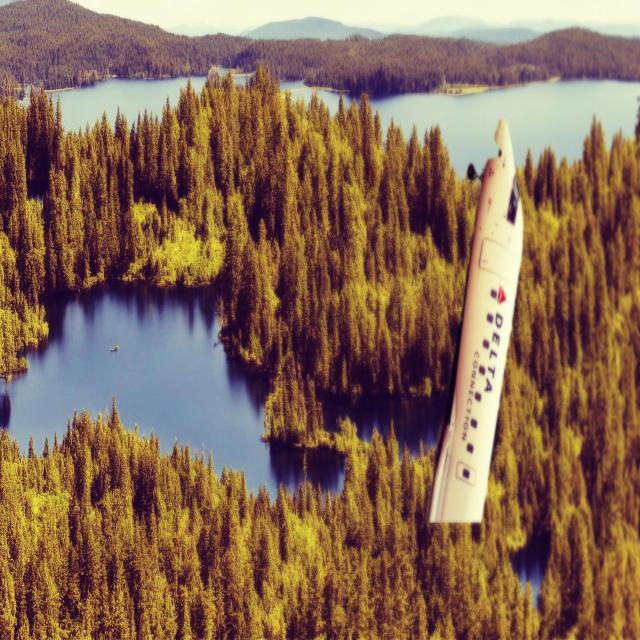airplane: (426, 117, 524, 524)
